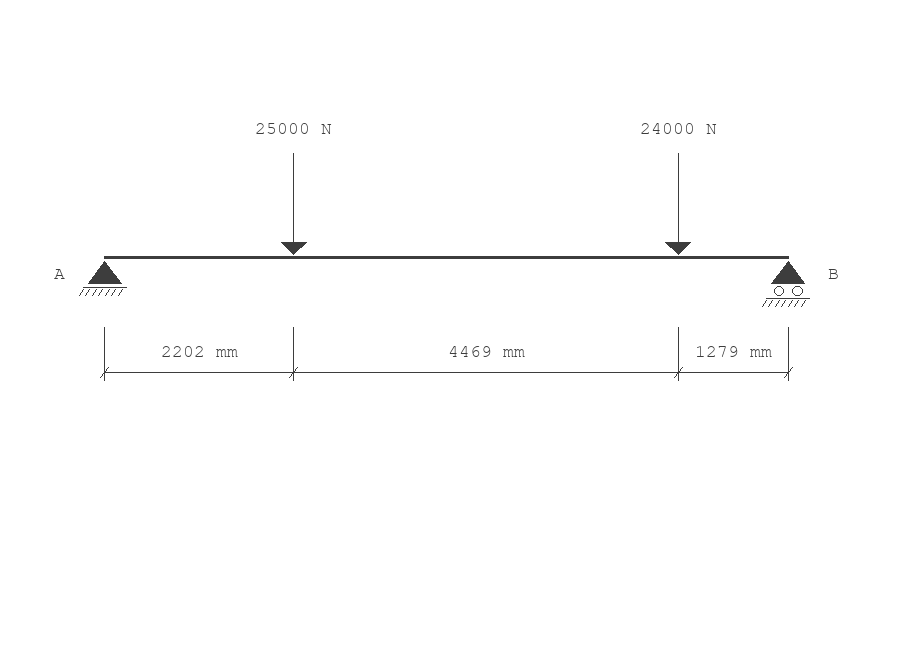pin_support: (79, 261, 127, 296)
point_load: (281, 153, 307, 255), (665, 153, 691, 255)
roller_support: (762, 261, 810, 307)
